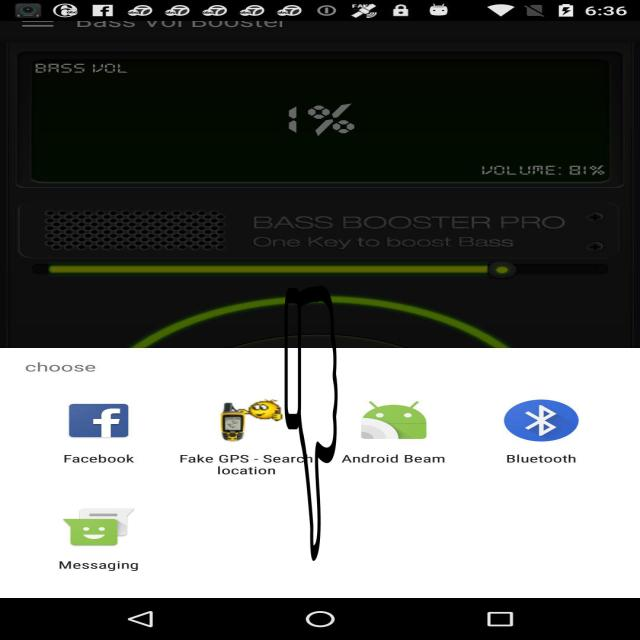obstruction: (284, 286, 338, 561)
